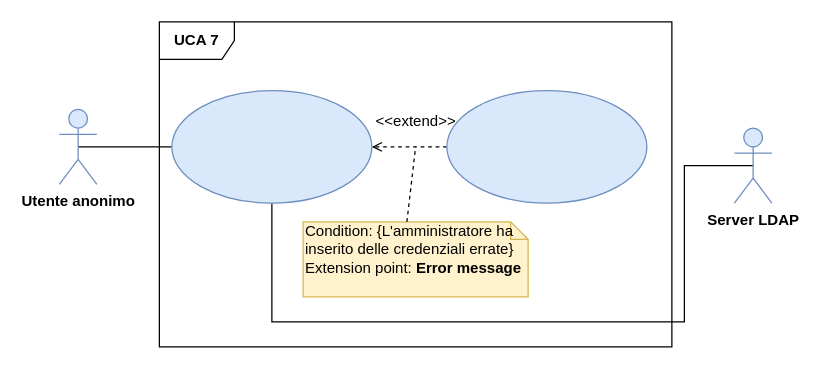
This 820x369 diagram has some shape labels left out. The shapes that lost their labels are listed below. From the top down, each one's box as (x1, y1, x2, y2) in pixels, then its label:
(171, 89, 372, 203): UCA 7.1 Inserimento credenziali ___________________ Extension point: UCA 8.7.1
(446, 89, 647, 203): UCA 8.7.1 Visualizzazione messaggio di errore credenziali LDAP aziendali errate
